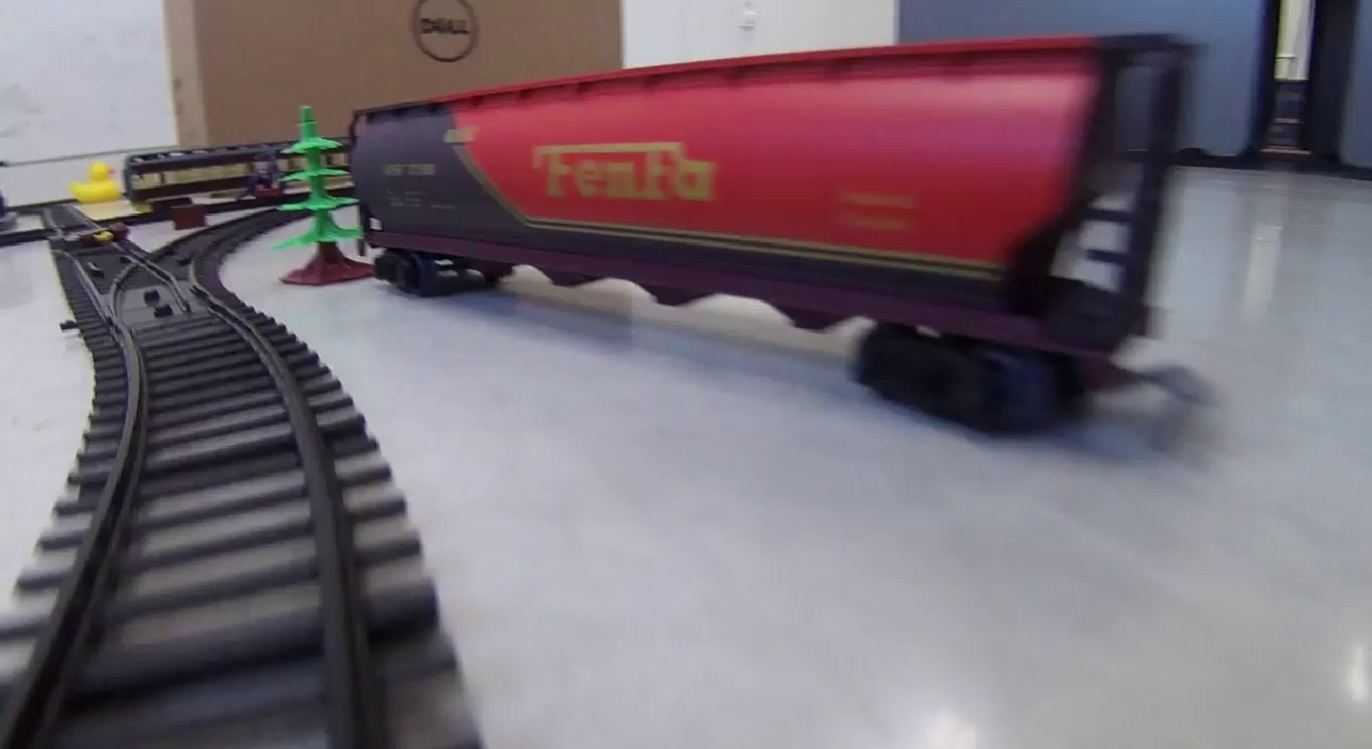tree: (269, 105, 358, 285)
